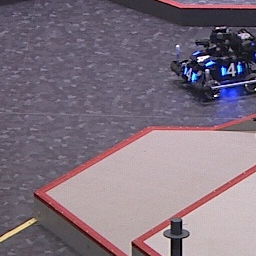Blue: (190, 50, 216, 68), (219, 63, 244, 77), (182, 66, 197, 83)
Robot: (170, 26, 256, 99)
